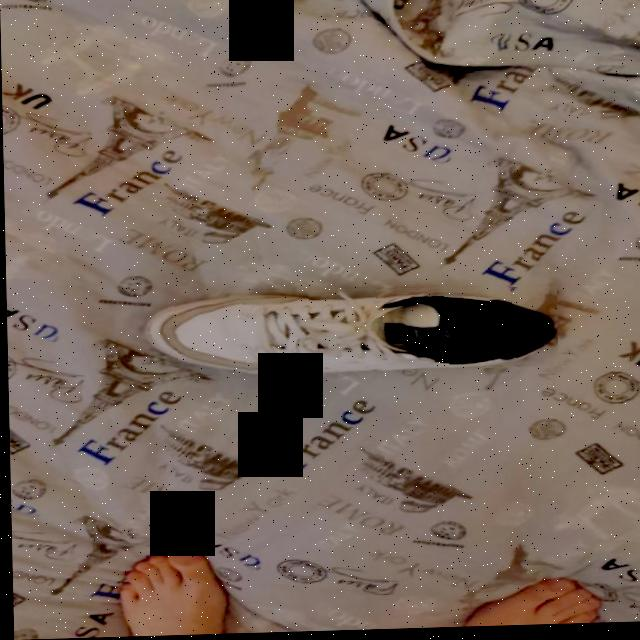shoe: (138, 283, 557, 379)
